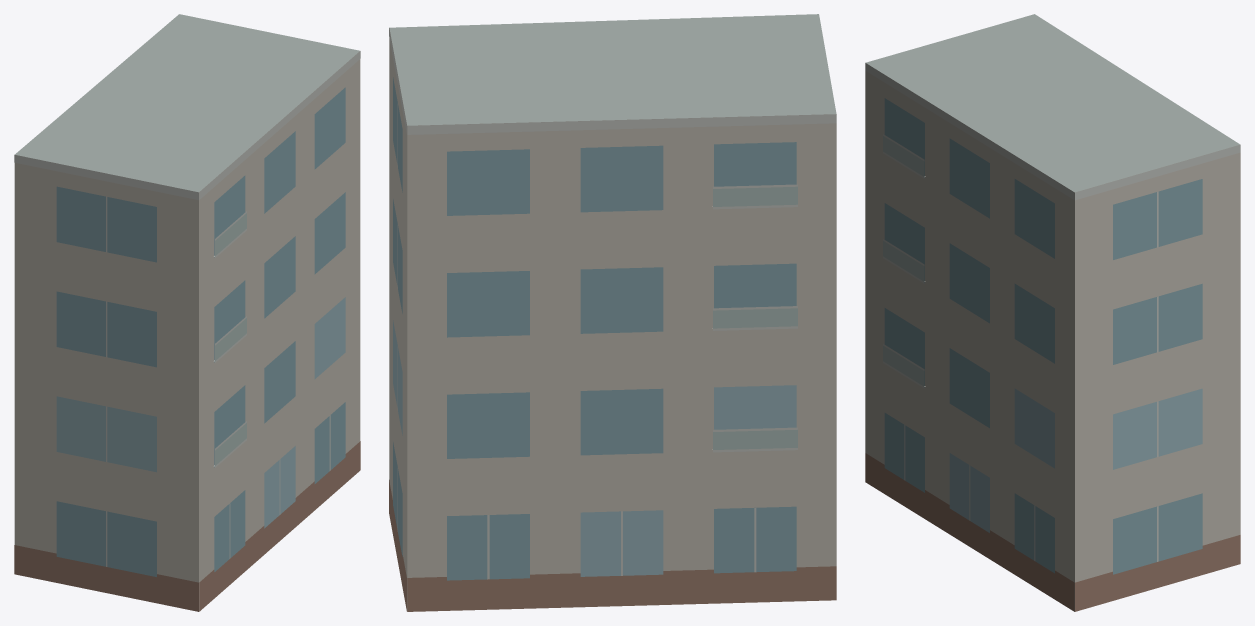
File: survey-upis-32723675.glb
3 renders of one model, left to right at view 1: azimuth 30°, elevation 25°; view 2: azimuth 150°, elevation 25°; view 3: azimuth 270°, elevation 25°, orthographic. The views are drawn at different scales.
Visible parts, largest first — view 1: survey-upis-32723675.tmp; view 2: survey-upis-32723675.tmp; view 3: survey-upis-32723675.tmp.
Part boxes in pixels (x1,y1,x2,y2): survey-upis-32723675.tmp: (14,14,360,611); survey-upis-32723675.tmp: (389,14,836,611); survey-upis-32723675.tmp: (865,14,1240,611).
Size of the model in its own units: 11.78 by 12.9 by 10.47.
